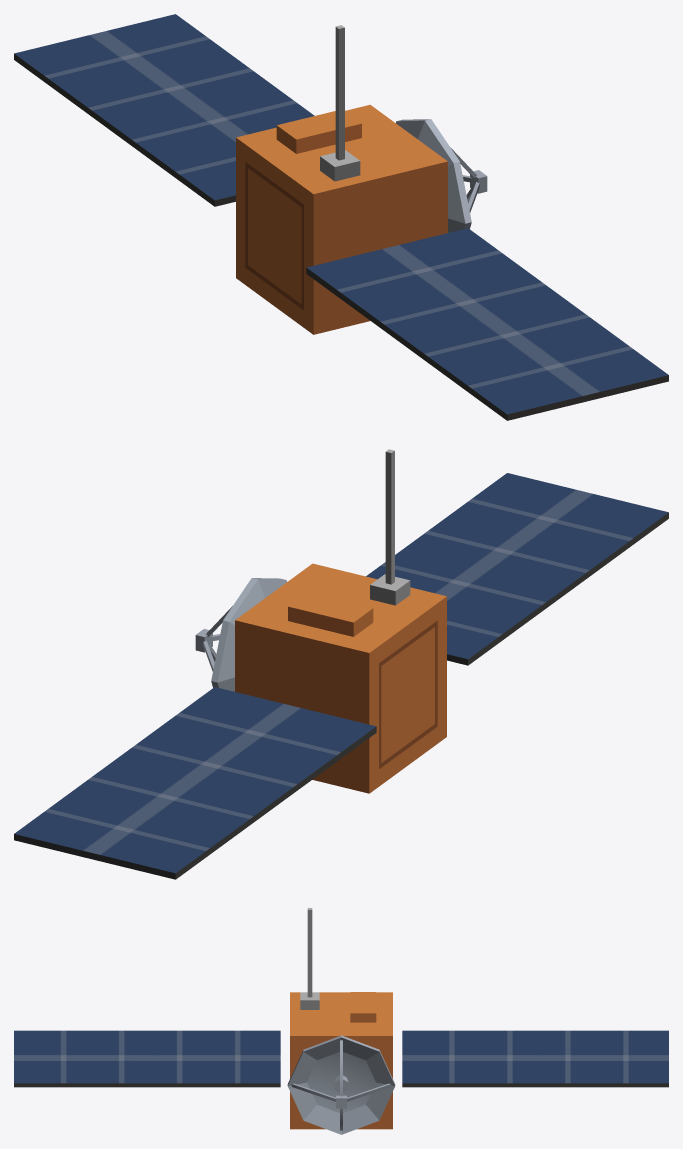
Rendered from SM_Veh_Satellite_04.fbx.
The picture shows the model from 3 angles, top to bottom: view 1: azimuth 30°, elevation 25°; view 2: azimuth 150°, elevation 25°; view 3: azimuth 270°, elevation 25°; orthographic projection. The views are drawn at different scales.
Parts seen in each view (by area): view 1: SM_Veh_Satellite_04; view 2: SM_Veh_Satellite_04; view 3: SM_Veh_Satellite_04.
Boxes of the visible parts, x1,y1,x2,y2 form: SM_Veh_Satellite_04: [14, 14, 668, 420]; SM_Veh_Satellite_04: [14, 449, 668, 879]; SM_Veh_Satellite_04: [14, 908, 668, 1134].
Bounding box in the file's own units: 1.44 × 1.77 × 5.52.
